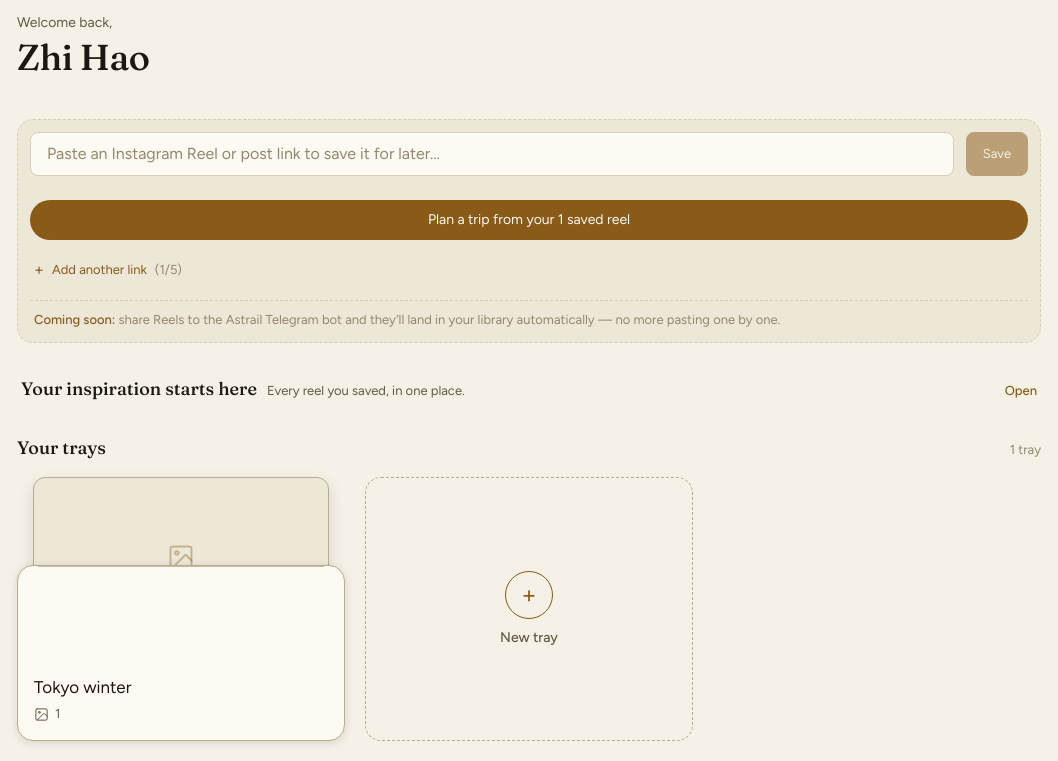
it: TraysScreen › falls through to the grid when the open tray vanishes (deleted elsewhere), without crashing (Decision 4)
The image size is (1058, 761).
Click the button "Tokyo winter" at (83, 687), box [34,677,328,699]
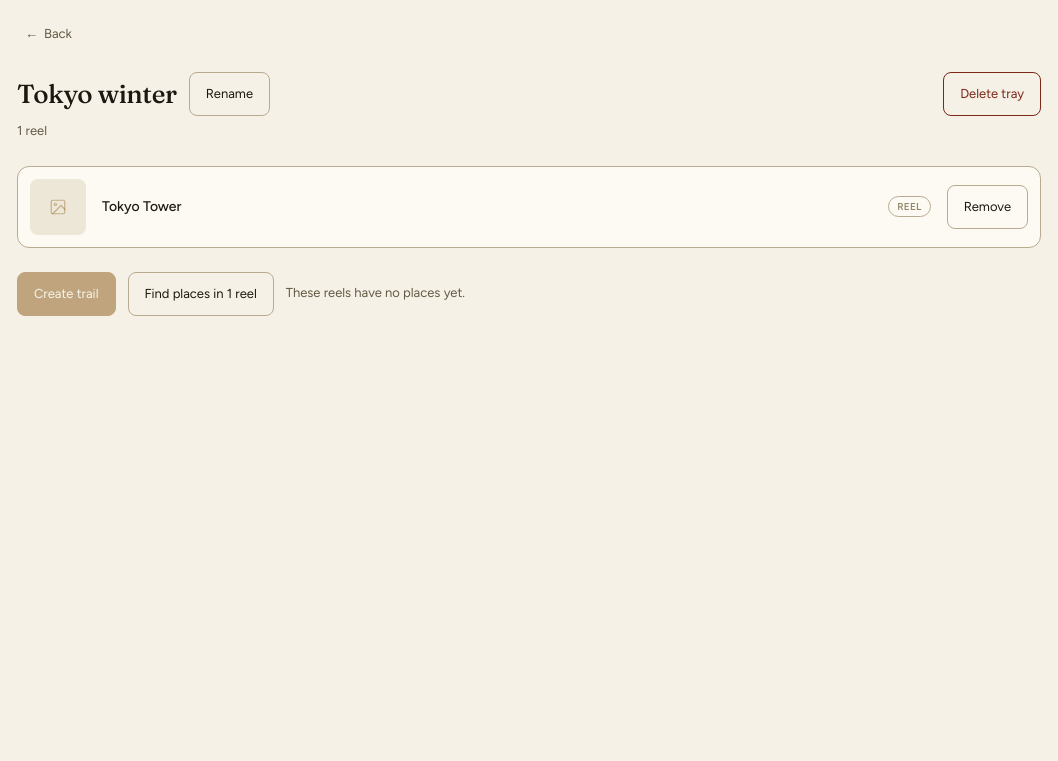
Expected: the heading "Tokyo winter" is shown, [17,74,177,114]
Click the button with aria-label "Remove Tokyo Tower" at (987, 206), box [947,184,1028,228]
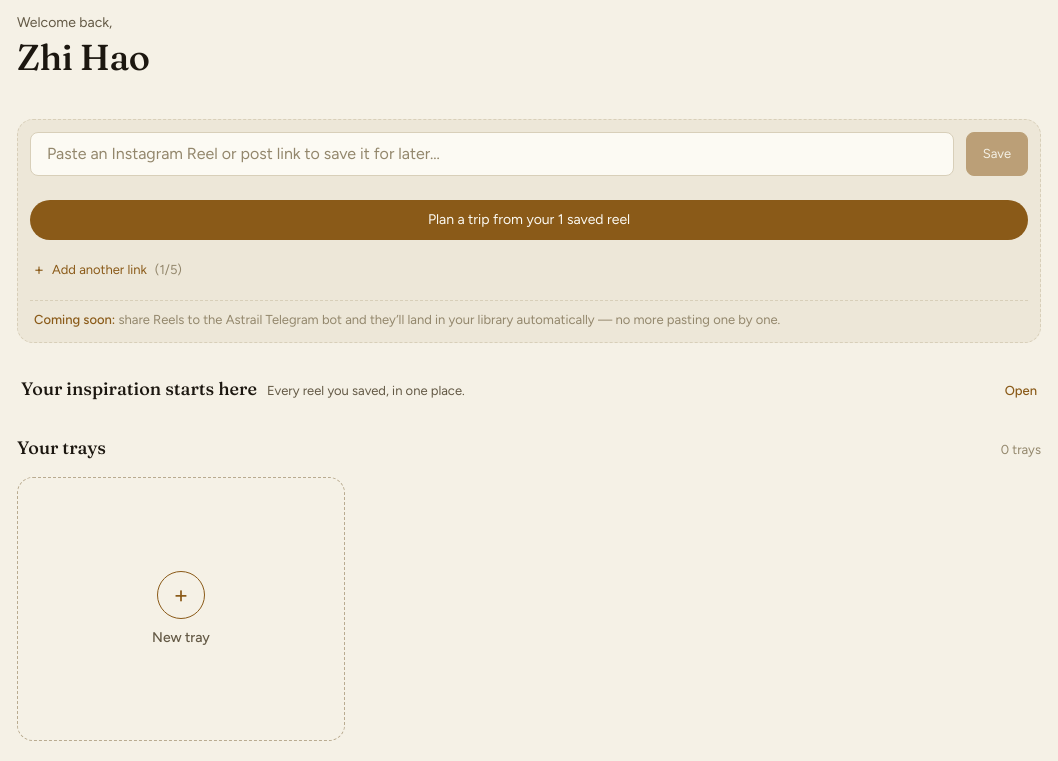
Expected: the button with aria-label "create a tray" is shown, [17,477,345,741]
Expected: the heading "Tokyo winter" is gone
